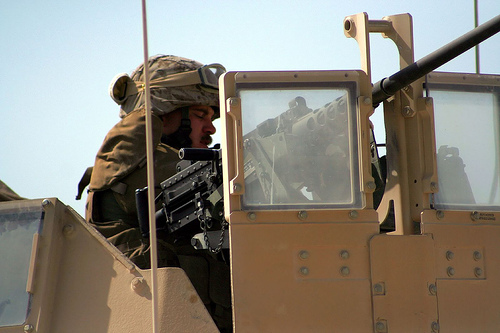rifle: (212, 24, 499, 229)
